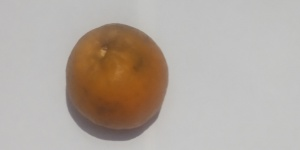BAD: (65, 23, 173, 130)
